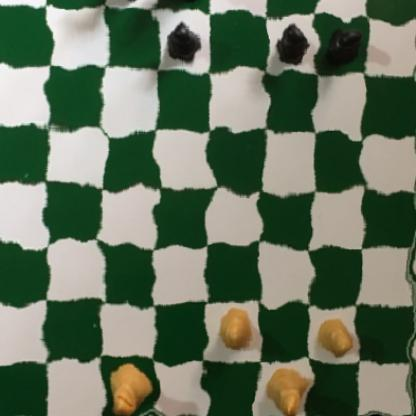black-bishop: (110, 0, 153, 2)
black-pawn: (325, 20, 365, 69), (162, 19, 203, 66), (267, 24, 307, 69)
black-queen: (162, 0, 211, 7)
white-bishop: (105, 359, 148, 416), (264, 363, 308, 416)
white-pawn: (215, 306, 255, 356), (314, 314, 354, 358)
